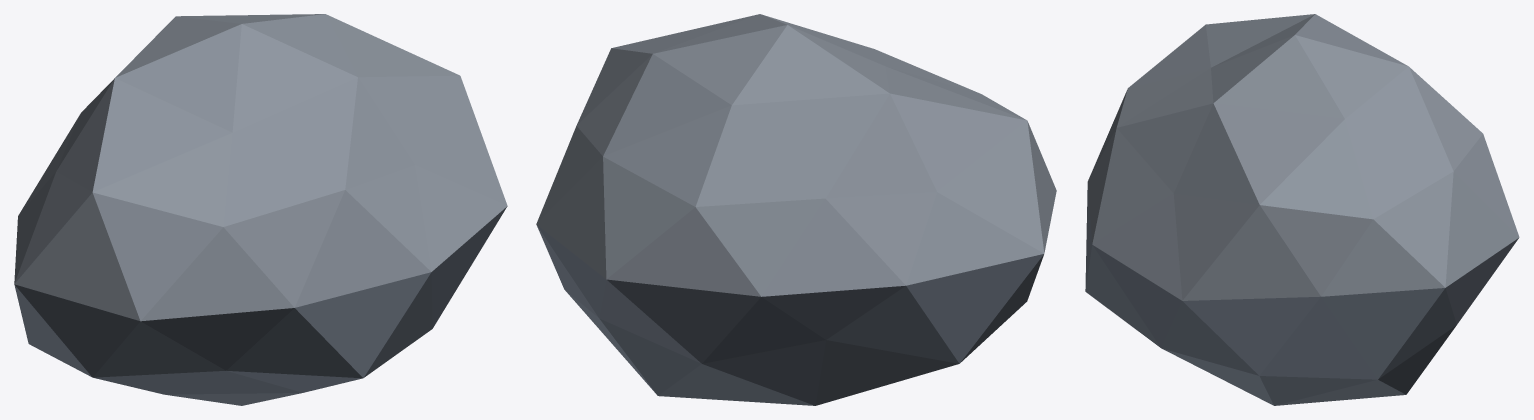
File: riprap.glb
The picture shows the model from 3 angles, left to right: view 1: azimuth 30°, elevation 25°; view 2: azimuth 150°, elevation 25°; view 3: azimuth 270°, elevation 25°; orthographic projection. The views are drawn at different scales.
Visible parts, largest first — view 1: riprap; view 2: riprap; view 3: riprap.
Part boxes in pixels (x1,y1,x2,y2): riprap: [14, 14, 507, 405]; riprap: [536, 14, 1056, 405]; riprap: [1085, 14, 1519, 405].
Size of the model in its own units: 2.35 by 1.9 by 2.12.
